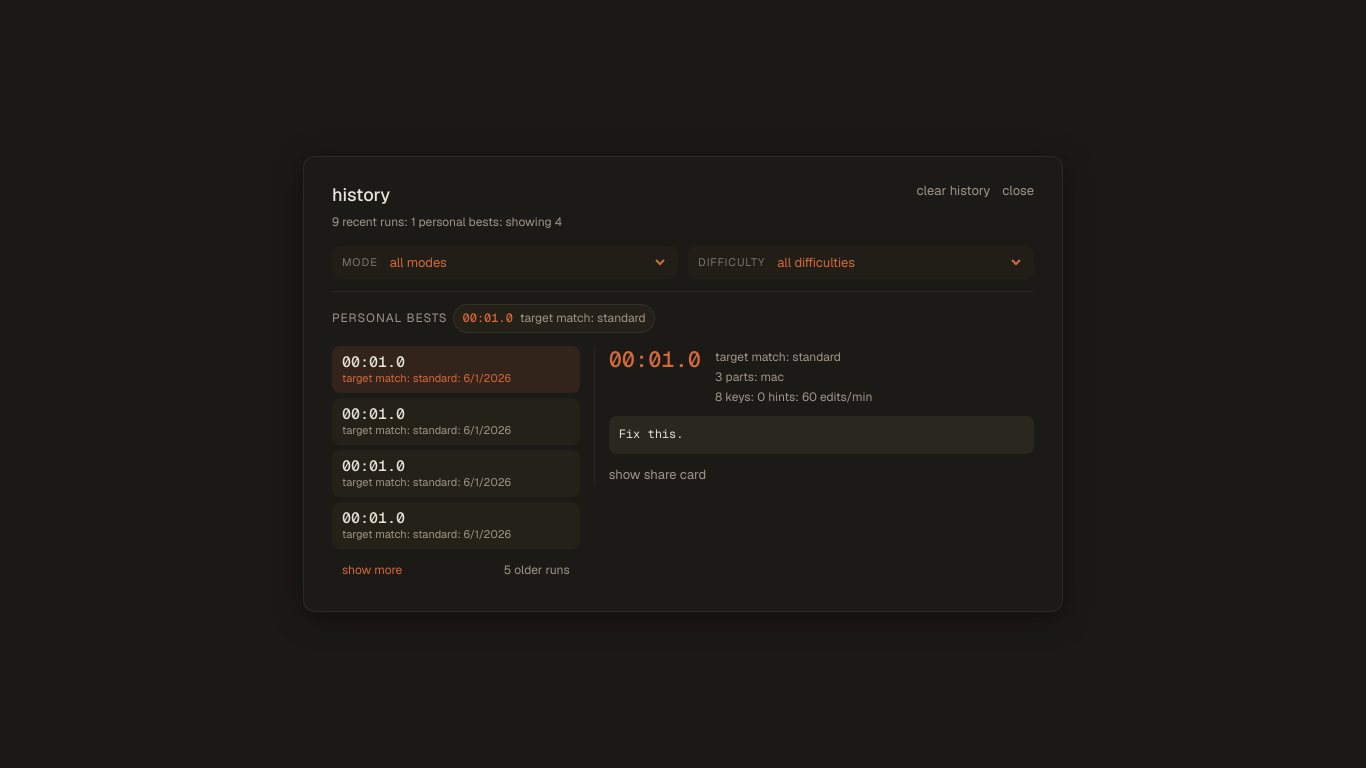
Test: HistoryPanel › limits recent history rows and reveals older runs on request
The width and height of the screenshot is (1366, 768).
Check: the text "9 recent runs: 1 personal bests: showing 4" is shown, box [332,213,562,232]
Check: the number of buttons with class "history-row" is 4, box [332,346,580,393]; [332,398,580,445]; [332,450,580,497]; [332,502,580,549]
Click the button "show more 5 older runs".
click(456, 570)  # box [332,554,580,587]
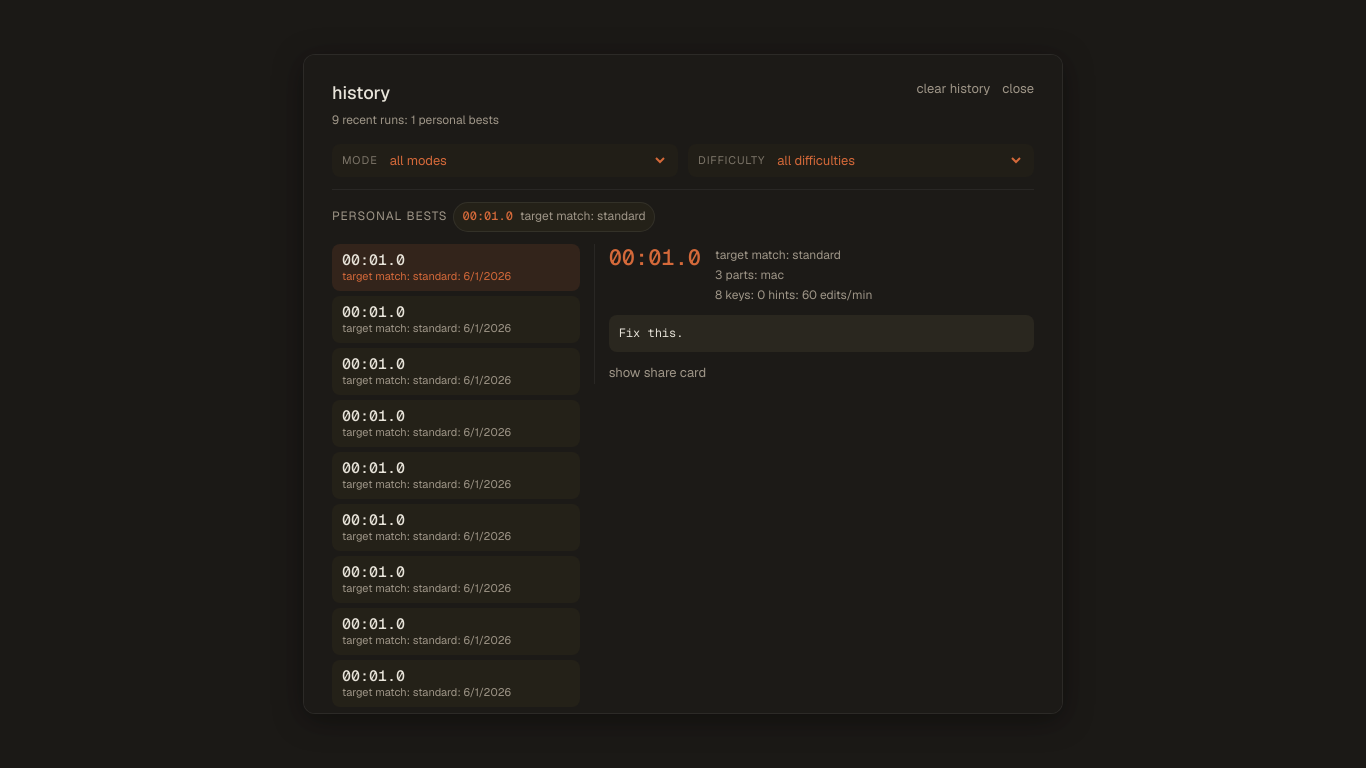
Check: the number of buttons with class "history-row" is 9
Check: the button "show more" is gone
